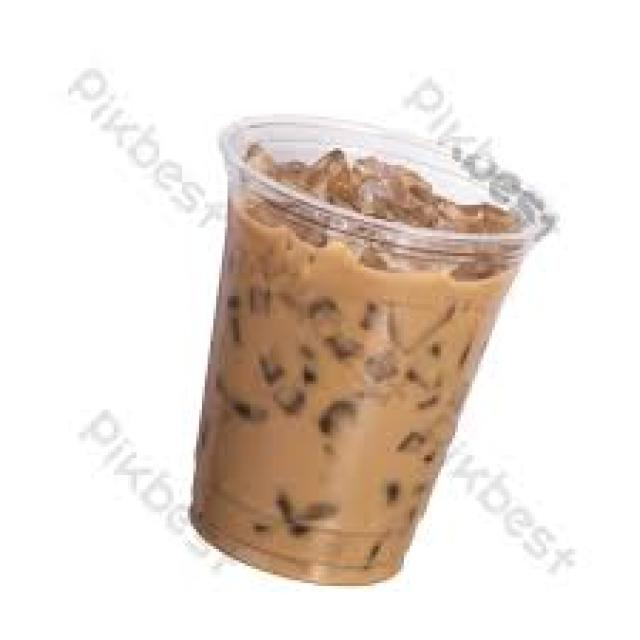bottle: (191, 116, 552, 584)
